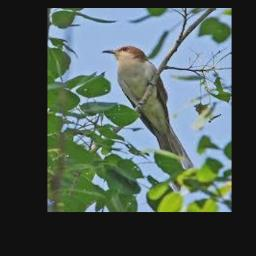Cuckoo: (101, 45, 195, 190)
